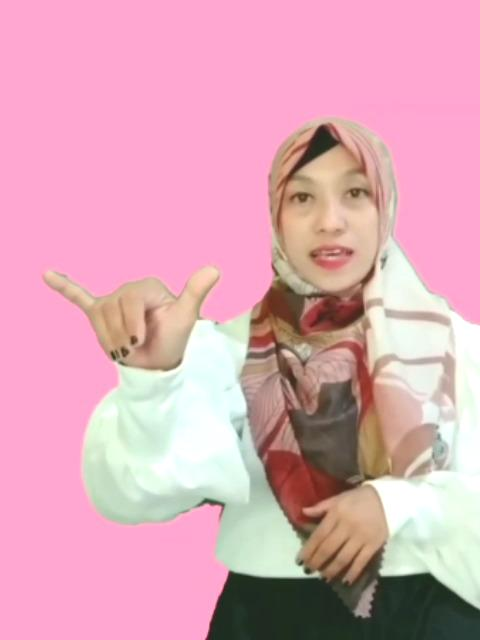Y: (34, 258, 237, 372)
